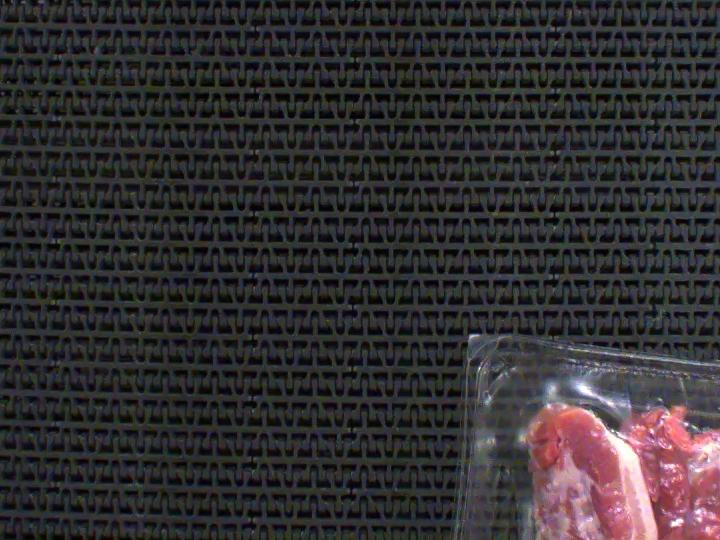unsealed: (478, 352, 720, 540)
